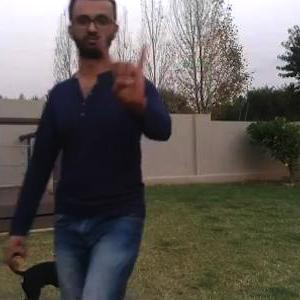takeoff-hand: (94, 37, 153, 109)
